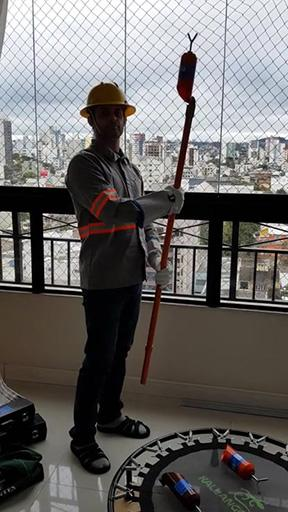Detector_Tensao_Contato: (220, 444, 266, 491), (176, 30, 199, 103)
Vara_Manobra: (140, 102, 197, 385)
